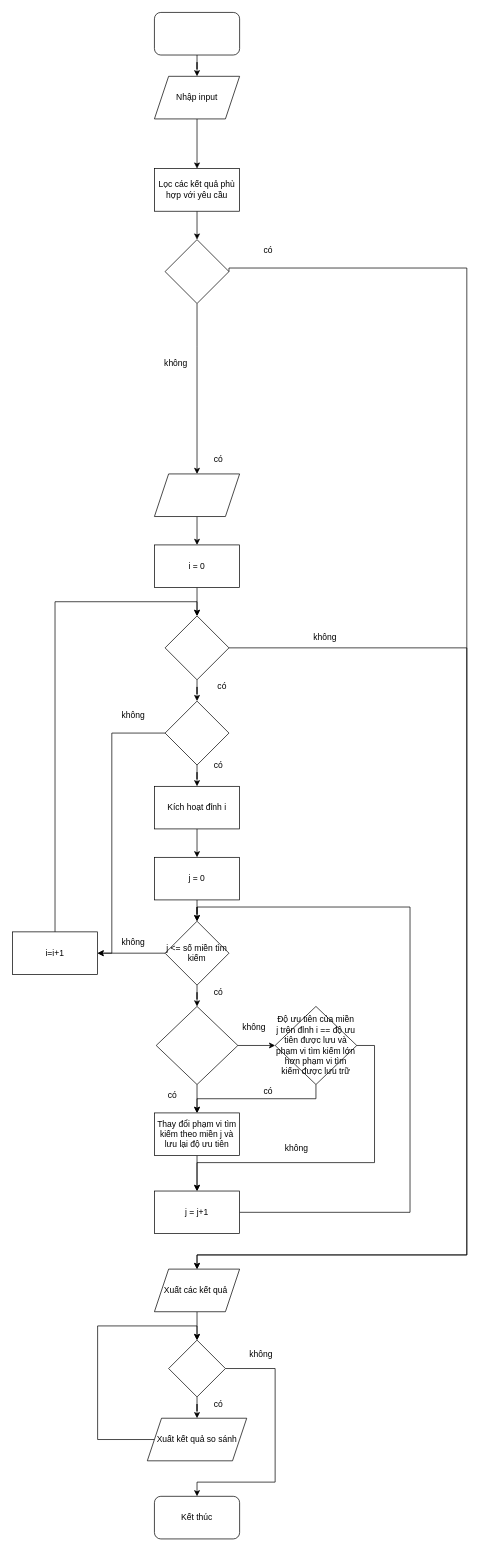
This 485x1551 diagram has some shape labels left out. The box of each missing label's shape, as (x1, y1, x2, y2) in pixels:
Bắt đầu: (154, 12, 240, 55)
Hỏi người dùng có muôn so sánh giữa 2 kết quả: (168, 1339, 225, 1397)
I <= số lượng các đỉnh: (164, 615, 229, 680)
Nhập thêm thông tin input: (154, 473, 240, 517)
Tìm thấy kết quả: (164, 239, 229, 304)
Đỉnh có thể được kích hoạt: (164, 700, 229, 765)
Độ ưu tiên của miền j trên đỉnh i > độ ưu tiên của miền được lưu: (155, 1006, 238, 1085)
